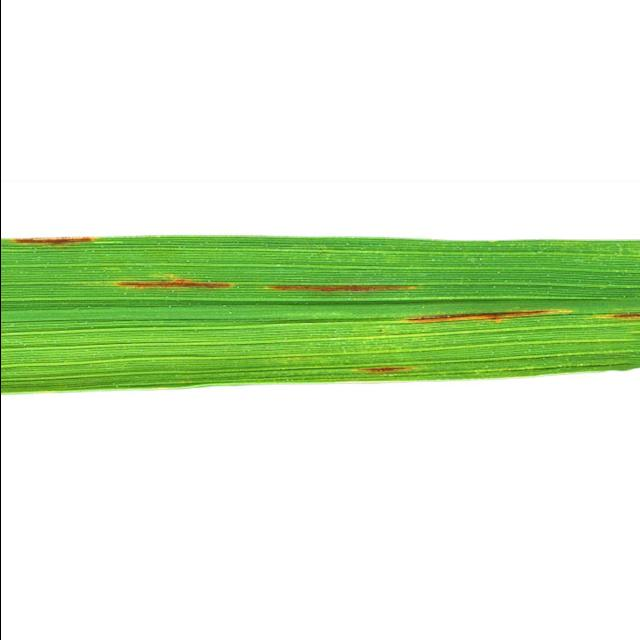Narrow brown: (0, 223, 640, 418)
